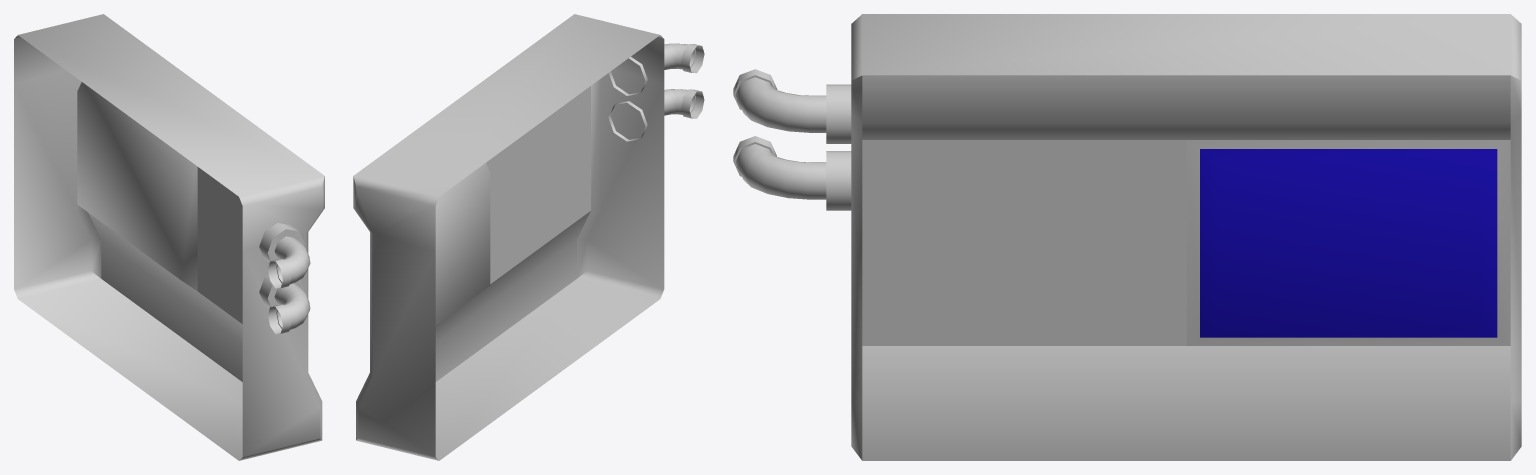
The model's file is control_panel.fbx.
The picture shows the model from 3 angles, left to right: view 1: azimuth 30°, elevation 25°; view 2: azimuth 150°, elevation 25°; view 3: azimuth 270°, elevation 25°; orthographic projection. The views are drawn at different scales.
Parts seen in each view (by area): view 1: Cube; view 2: Cube; view 3: Cube.
Boxes of the visible parts, bbox=[...] form: Cube: bbox=[14, 14, 324, 460]; Cube: bbox=[353, 14, 704, 460]; Cube: bbox=[733, 14, 1521, 460].
Size of the model in its own units: 1768 by 5190 by 9576.
